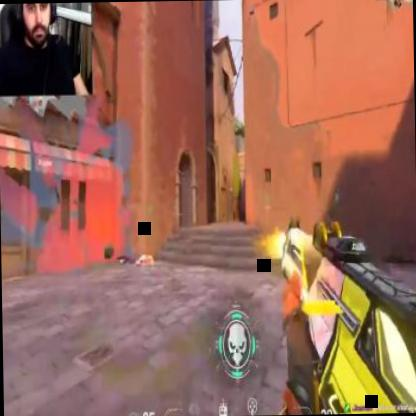enemy: (226, 180, 235, 209)
enemy_head: (228, 184, 232, 192)
